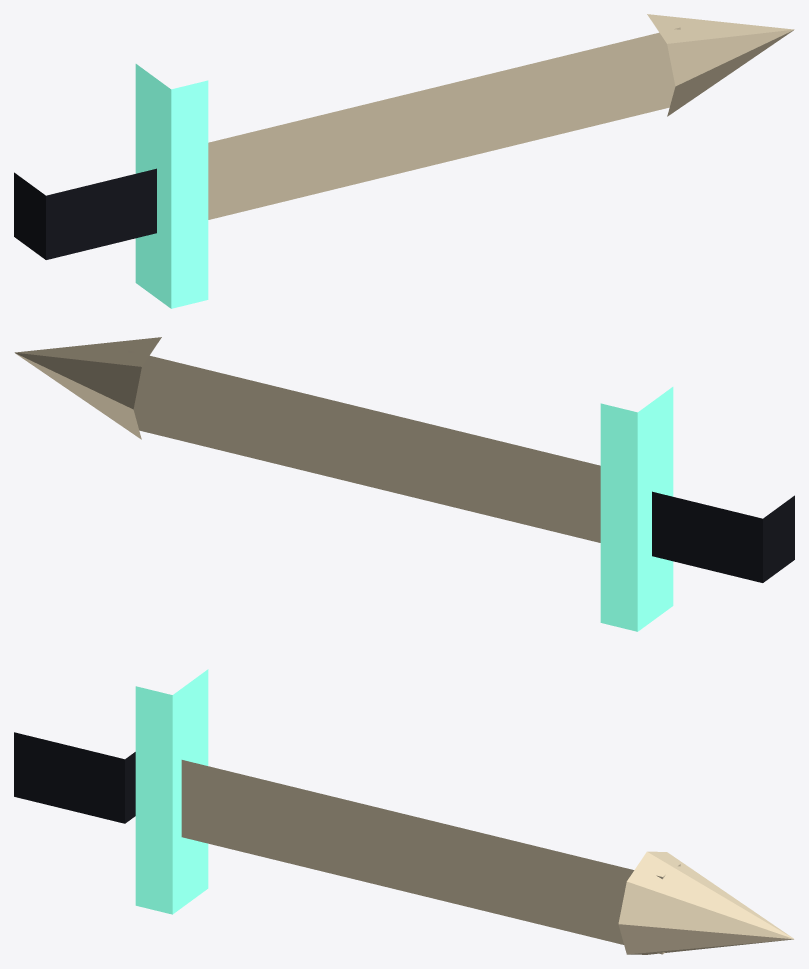
File: juggernaut.glb
3 views of the same model, one above another, from view 1: azimuth 30°, elevation 25°; view 2: azimuth 150°, elevation 25°; view 3: azimuth 330°, elevation 25° (orthographic).
Visible parts, largest first — view 1: juggernaut-blade, juggernaut-guard, juggernaut-grip, juggernaut-tip; view 2: juggernaut-blade, juggernaut-guard, juggernaut-grip, juggernaut-tip; view 3: juggernaut-blade, juggernaut-guard, juggernaut-tip, juggernaut-grip.
Boxes of the visible parts, x1=… form: juggernaut-blade: x1=208, y1=27, x2=680, y2=219; juggernaut-guard: x1=135, y1=64, x2=208, y2=308; juggernaut-grip: x1=14, y1=168, x2=156, y2=259; juggernaut-tip: x1=647, y1=14, x2=794, y2=116; juggernaut-blade: x1=128, y1=350, x2=600, y2=542; juggernaut-guard: x1=600, y1=387, x2=673, y2=631; juggernaut-grip: x1=652, y1=491, x2=794, y2=582; juggernaut-tip: x1=14, y1=337, x2=161, y2=439; juggernaut-blade: x1=181, y1=760, x2=680, y2=954; juggernaut-guard: x1=135, y1=669, x2=208, y2=914; juggernaut-tip: x1=618, y1=851, x2=794, y2=954; juggernaut-grip: x1=14, y1=732, x2=135, y2=823.
Size of the model in its own units: 1.24 by 0.34 by 0.16.
